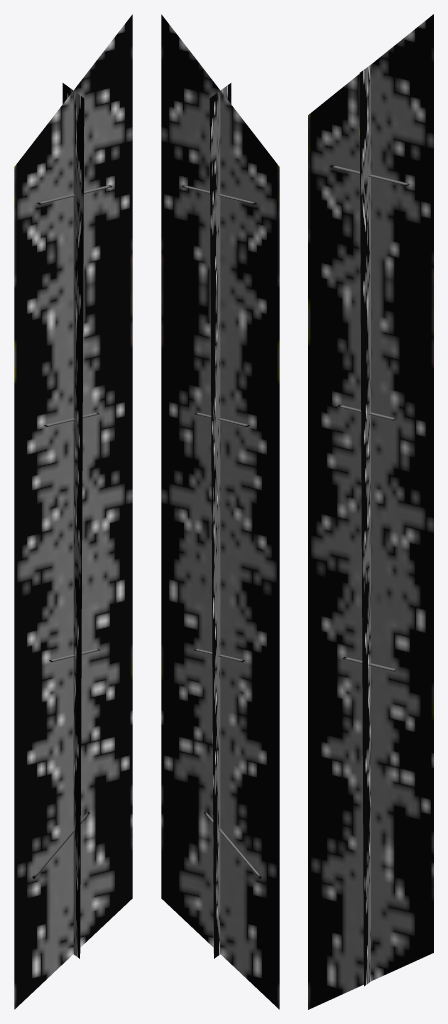
The model's file is weapon-wp_a_1165.glb.
3 views of the same model, side by side, from view 1: azimuth 30°, elevation 25°; view 2: azimuth 150°, elevation 25°; view 3: azimuth 330°, elevation 25° (orthographic). The views are drawn at different scales.
Visible parts, largest first — view 1: wp_a_1165_mesh; view 2: wp_a_1165_mesh; view 3: wp_a_1165_mesh.
Part boxes in pixels (left/top/right/bottom): wp_a_1165_mesh: left=14, top=14, right=132, bottom=1009; wp_a_1165_mesh: left=161, top=14, right=279, bottom=1009; wp_a_1165_mesh: left=308, top=14, right=433, bottom=1009.
Size of the model in its own units: 0.0689 by 0.5377 by 0.0218.
Materials: 1 (1 with a texture image).
